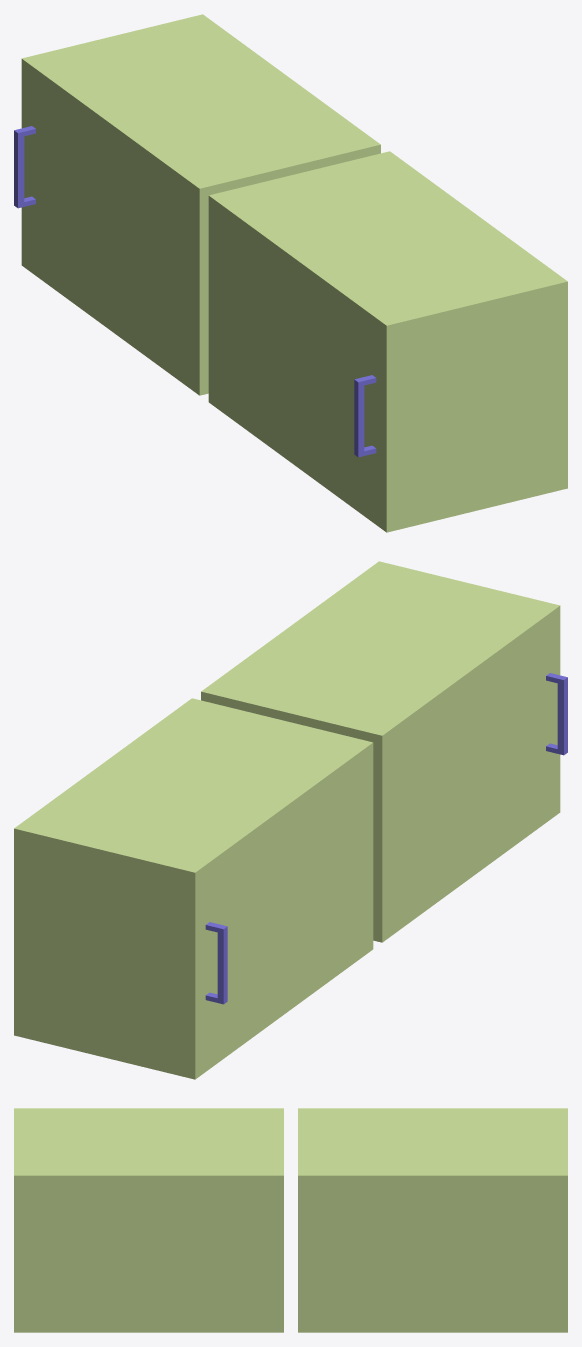
Rendered from Shelf1.fbx.
The picture shows the model from 3 angles, top to bottom: view 1: azimuth 30°, elevation 25°; view 2: azimuth 150°, elevation 25°; view 3: azimuth 270°, elevation 25°; orthographic projection. The views are drawn at different scales.
Visible parts, largest first — view 1: Table.015, Table.029; view 2: Table.029, Table.015; view 3: Table.015, Table.029.
Boxes of the visible parts, x1,y1,x2,y2 form: Table.015: [208, 151, 567, 532]; Table.029: [14, 14, 380, 395]; Table.029: [14, 698, 373, 1079]; Table.015: [201, 561, 567, 942]; Table.015: [14, 1108, 283, 1332]; Table.029: [298, 1108, 567, 1332].
Bounding box in the file's own units: 0.4203 × 0.417 × 1.33.
